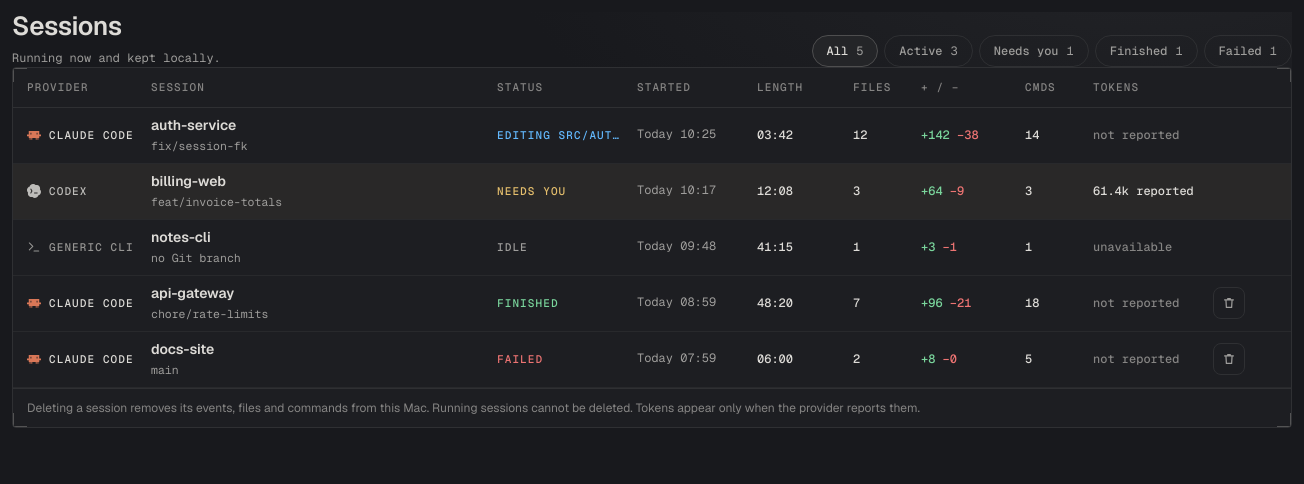
Scenario: Sessions page › keeps the row and reports an error when the delete fails
This screenshot has width=1304, height=484.
Click the button named "Delete session api-gateway": (1229, 303) [1213, 287, 1245, 319]
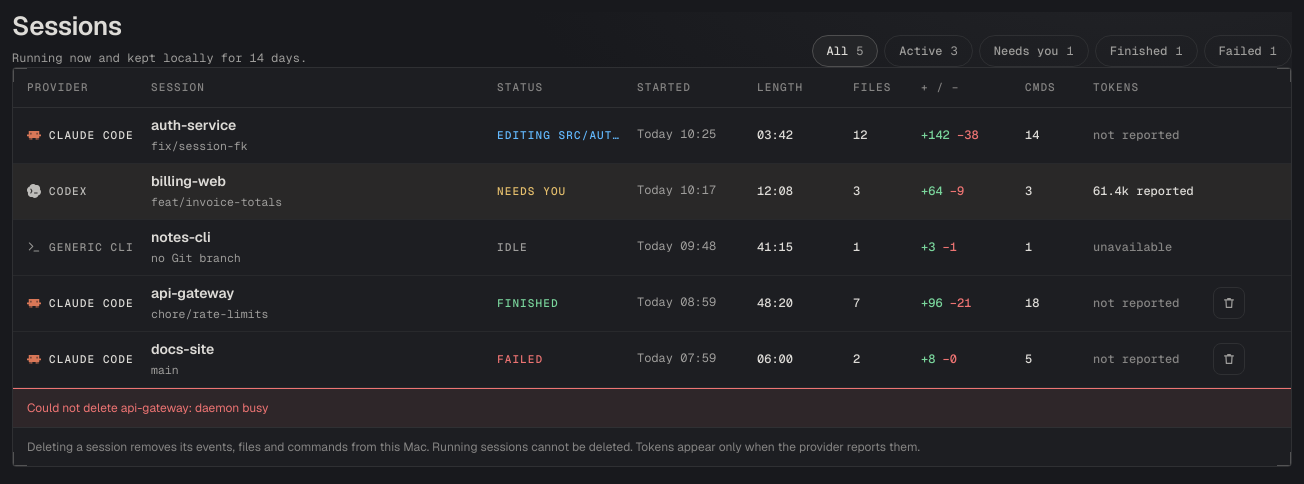
Expected: the link "api-gateway" is shown, [151, 284, 234, 302]
Result: the message reads "Could not delete api-gateway: daemon busy" at [27, 400, 268, 416]
